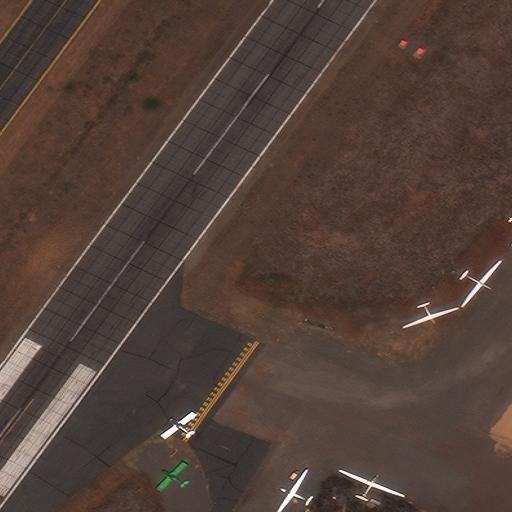Medium Civil Transport: (340, 469, 405, 499), (462, 261, 502, 307), (274, 469, 310, 512)
Small Civil Transport: (403, 303, 458, 328), (155, 460, 186, 488), (160, 411, 191, 436)
